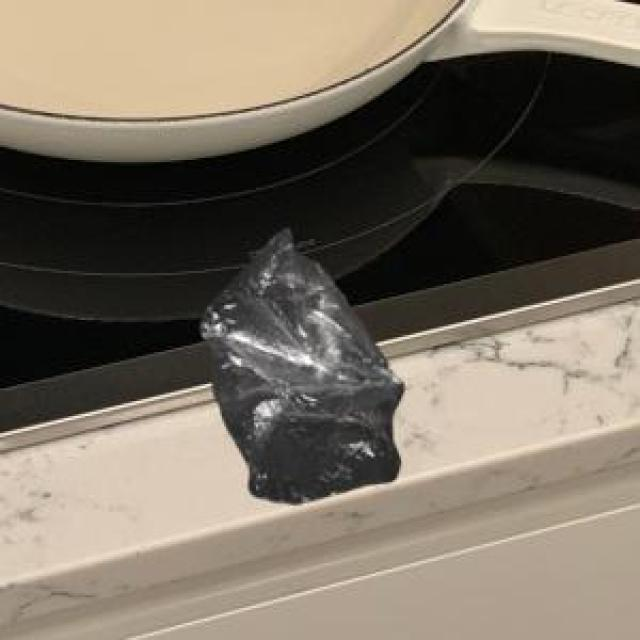waste: (201, 229, 404, 502)
